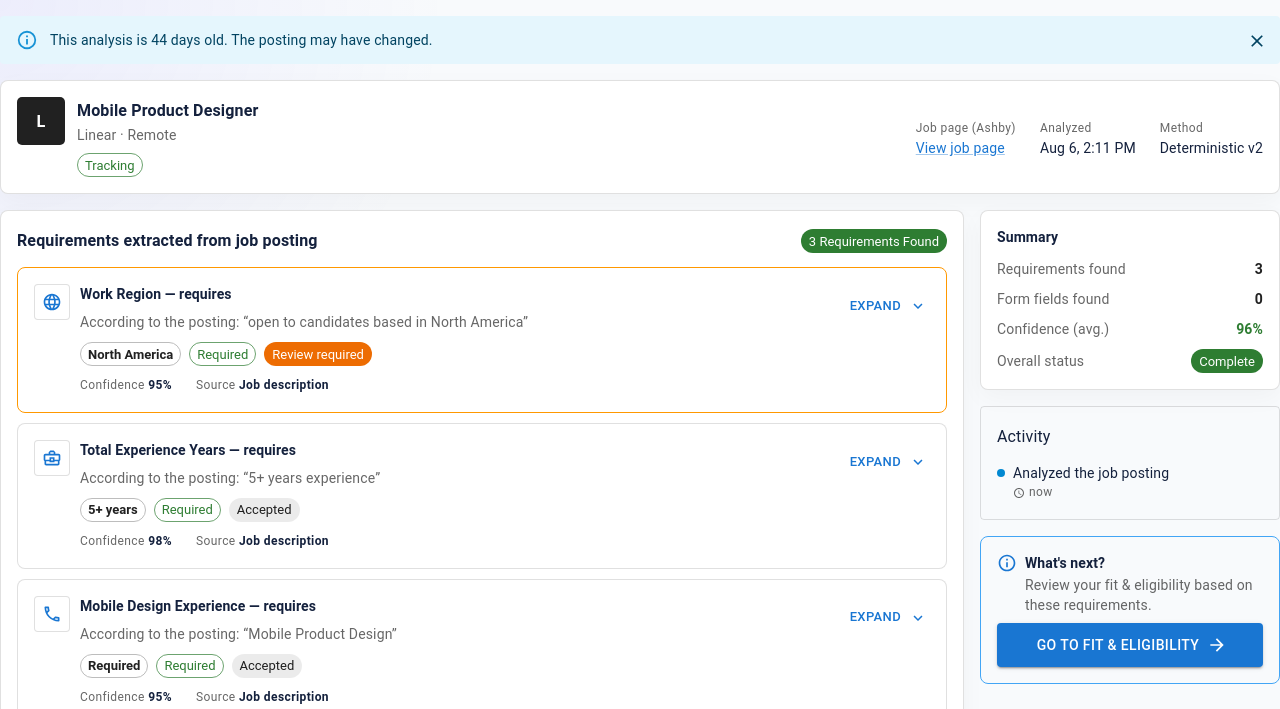
Scenario: AnalysisStep › expands requirement details on demand
This screenshot has width=1280, height=709.
Step 1. Click the button "Expand" in the row of "Work Region" → click(887, 306), box [845, 284, 930, 328]
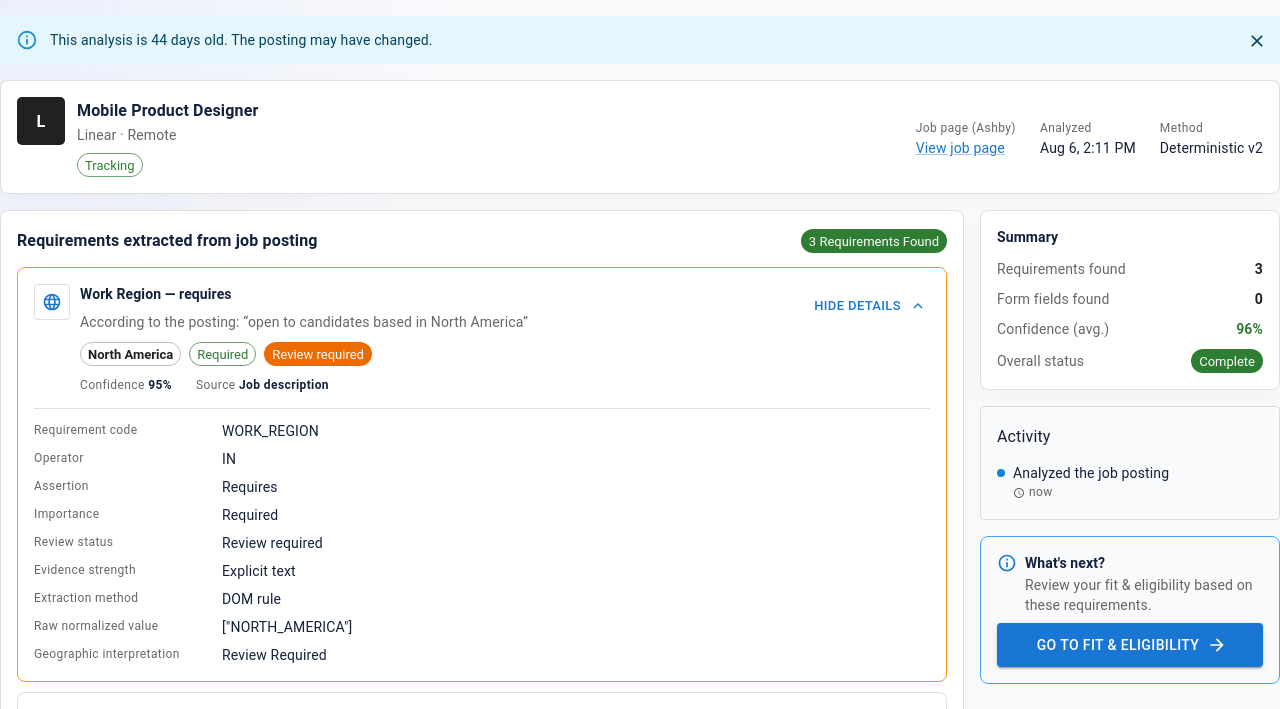
expect the text "Requirement code" is shown: met, box [34, 423, 138, 437]
expect the text "WORK_REGION" is shown: met, box [222, 423, 319, 439]
expect the text "DOM rule" is shown: met, box [222, 591, 281, 607]
